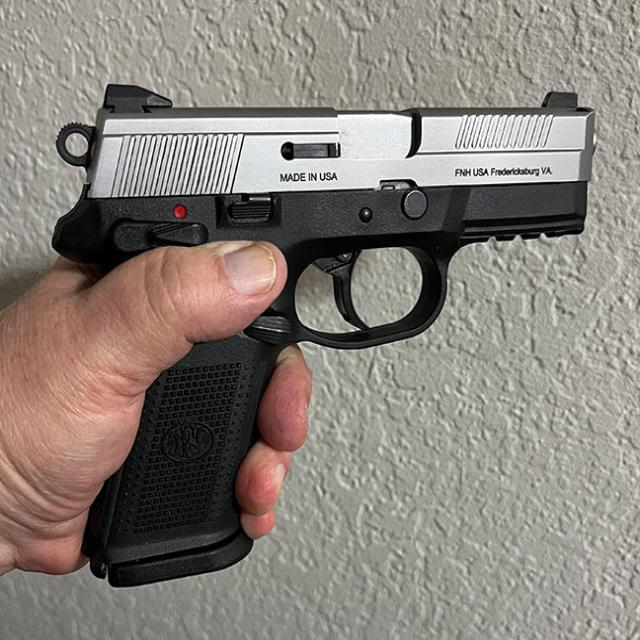HandGun: (50, 85, 598, 591)
